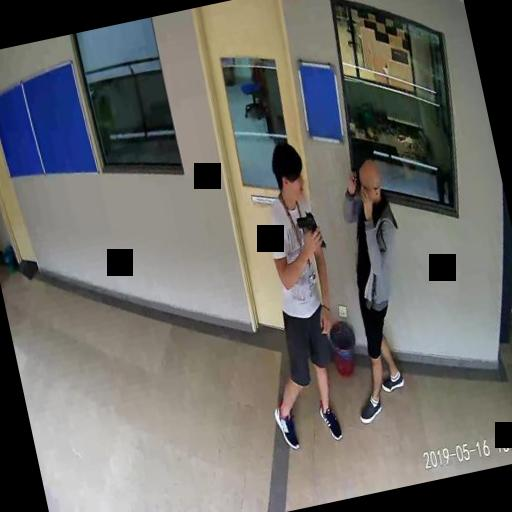Handgun: (294, 208, 324, 250)
